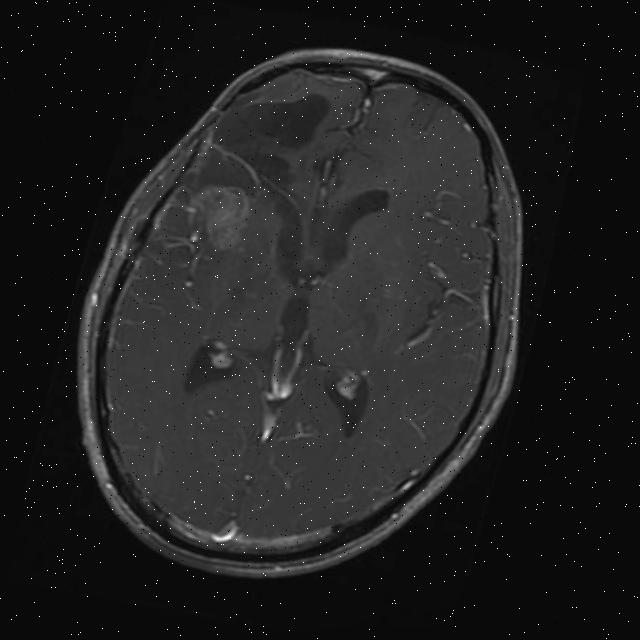Glioma: (179, 177, 257, 256)
